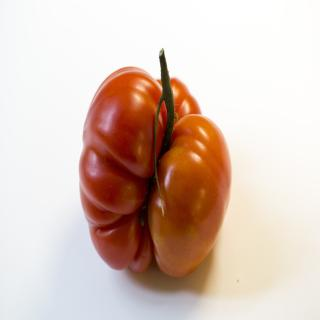tomato: (76, 40, 235, 281)
